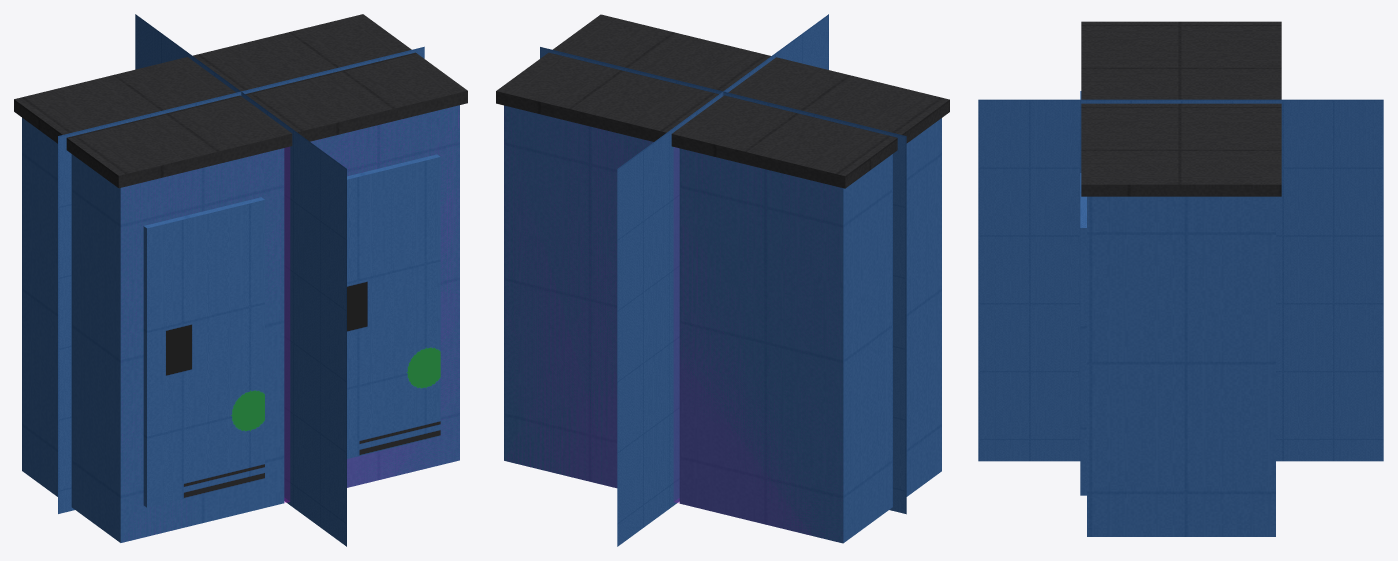
The model's file is portapotty_double_blue.dae.
The picture shows the model from 3 angles, left to right: view 1: azimuth 30°, elevation 25°; view 2: azimuth 150°, elevation 25°; view 3: azimuth 270°, elevation 25°; orthographic projection. The views are drawn at different scales.
Parts seen in each view (by area): view 1: portapotty_double_blue_a800, portapotty_double_blue_a200, portapotty_double_blue_a50, Colmesh_double-1; view 2: portapotty_double_blue_a800, portapotty_double_blue_a200, portapotty_double_blue_a50, Colmesh_double-1; view 3: portapotty_double_blue_a800, portapotty_double_blue_a50.
Part boxes in pixels (<box>): portapotty_double_blue_a800: <box>14,14,467,542</box>; portapotty_double_blue_a200: <box>22,106,458,542</box>; portapotty_double_blue_a50: <box>58,14,424,546</box>; Colmesh_double-1: <box>284,117,458,502</box>; portapotty_double_blue_a800: <box>496,14,949,543</box>; portapotty_double_blue_a200: <box>505,106,941,542</box>; portapotty_double_blue_a50: <box>540,14,906,546</box>; Colmesh_double-1: <box>530,147,802,531</box>; portapotty_double_blue_a800: <box>1080,21,1281,536</box>; portapotty_double_blue_a50: <box>978,99,1383,461</box>.
Size of the model in its own units: 2.46 by 2.46 by 2.43.
Materials: 4 (3 with a texture image).
